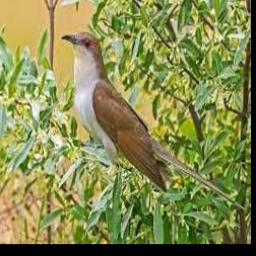Cuckoo: (60, 31, 245, 211)
